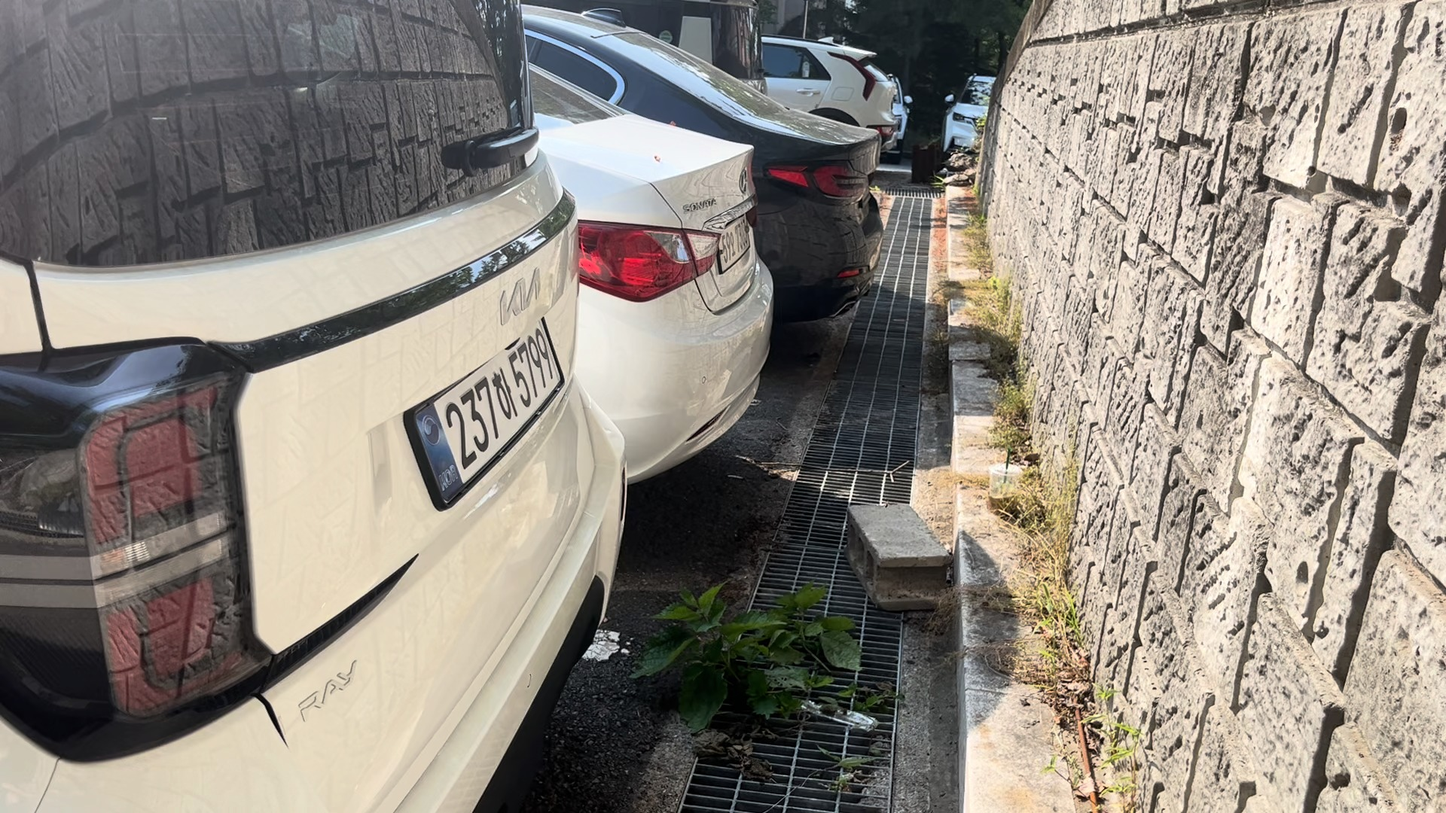car_emblem: (494, 267, 542, 320)
license_plate: (408, 320, 563, 507)
tail_light: (0, 346, 270, 745), (579, 221, 719, 301)
